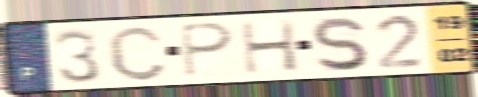2: (372, 12, 427, 71)
3: (52, 26, 104, 85)
C: (104, 23, 170, 83)
H: (237, 18, 302, 76)
P: (178, 21, 237, 79)
S: (308, 15, 371, 74)
